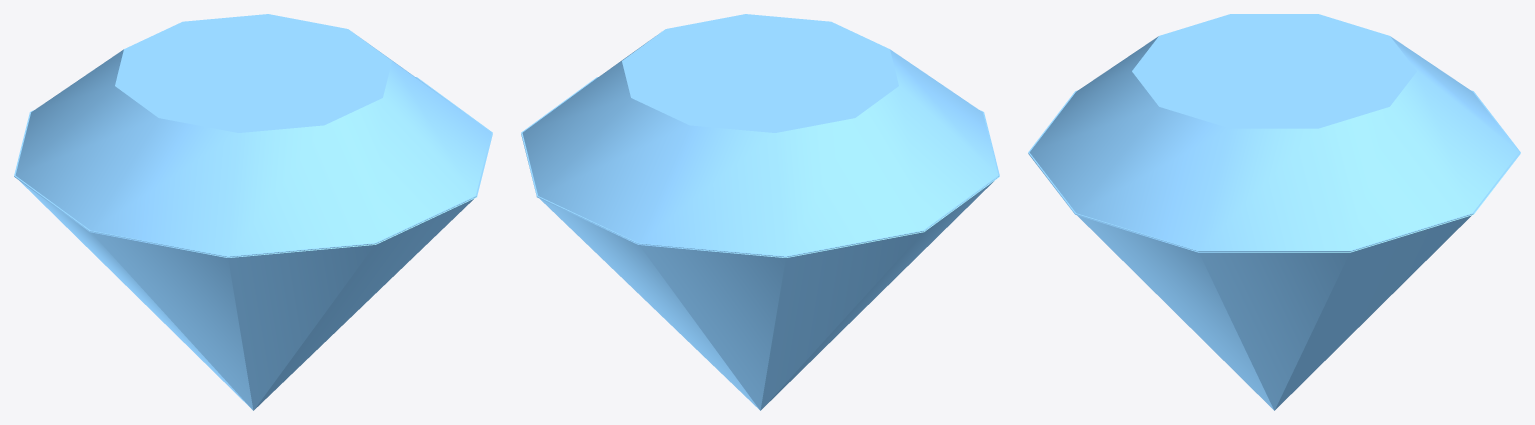
File: diamond.glb
3 views of the same model, side by side, from view 1: azimuth 30°, elevation 25°; view 2: azimuth 150°, elevation 25°; view 3: azimuth 270°, elevation 25° (orthographic).
Size of the model in its own units: 1.81 by 1.45 by 1.9.
